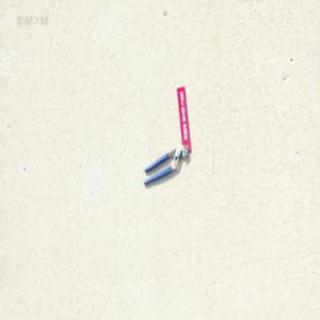LuggageTagtrack_idkeyframe: (175, 84, 191, 150)
Pliertrack_idkeyframe: (142, 144, 187, 185)
